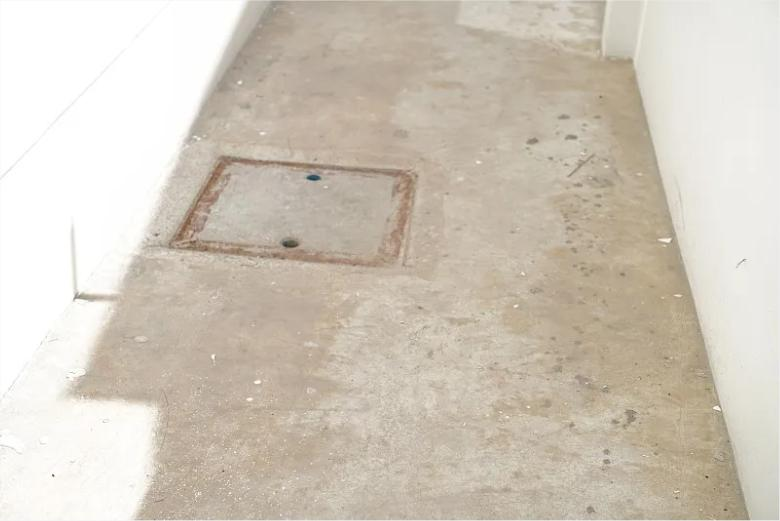wellcover: (166, 132, 421, 267)
